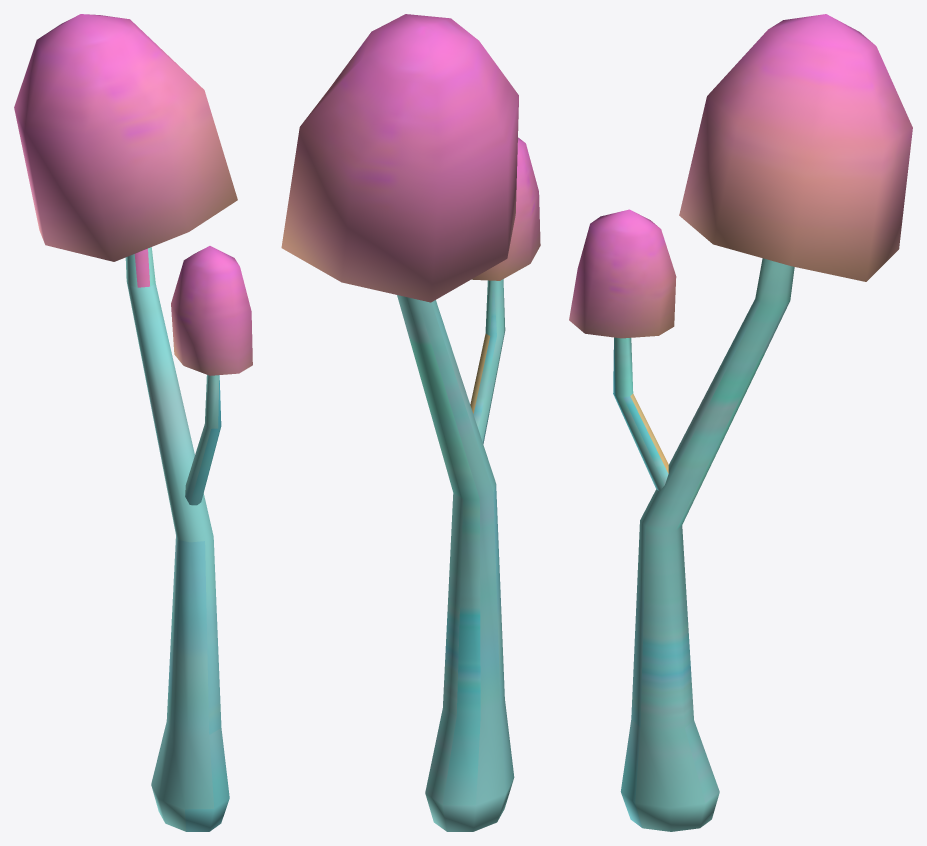
The model's file is grande_seta02.fbx.
3 views of the same model, side by side, from view 1: azimuth 30°, elevation 25°; view 2: azimuth 150°, elevation 25°; view 3: azimuth 270°, elevation 25° (orthographic). The views are drawn at different scales.
Parts seen in each view (by area): view 1: SetaXL_02; view 2: SetaXL_02; view 3: SetaXL_02.
Boxes of the visible parts, box(x1,y1,x2,y2) form: SetaXL_02: box(14, 14, 252, 831); SetaXL_02: box(281, 14, 540, 831); SetaXL_02: box(569, 14, 912, 831).
Size of the model in its own units: 2843 by 10616 by 4170.
Materials: 1 (1 with a texture image).
